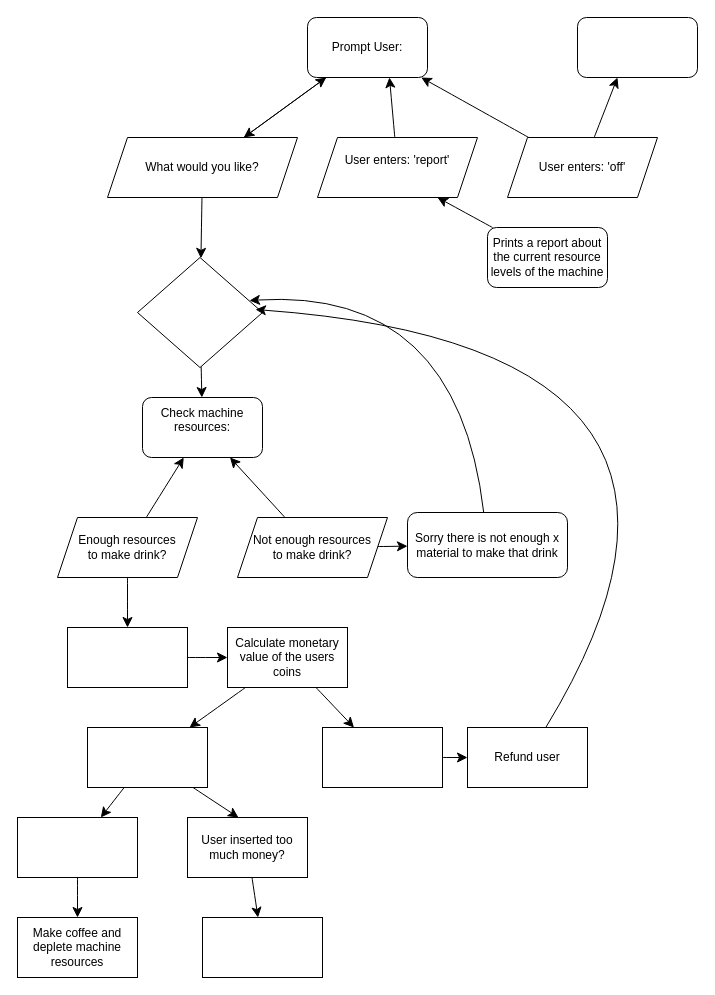
Some shapes in this 715 by 995 pixel diagram are drawn without their labels. The centre of each missing label's shape, as x and y in pixels:
"Ask user to enter coins to purchase drink" goes at (127,657).
"Enough coins?" goes at (147,757).
"Maintence mode that ends exeuction of coffee machine" goes at (637,47).
"Not enough coins?" goes at (382,757).
"Refund user excess money and make coffee and deplete resources" goes at (262,947).
"User enters a drink" goes at (199,312).
"User inserted enough money?" goes at (77,847).
